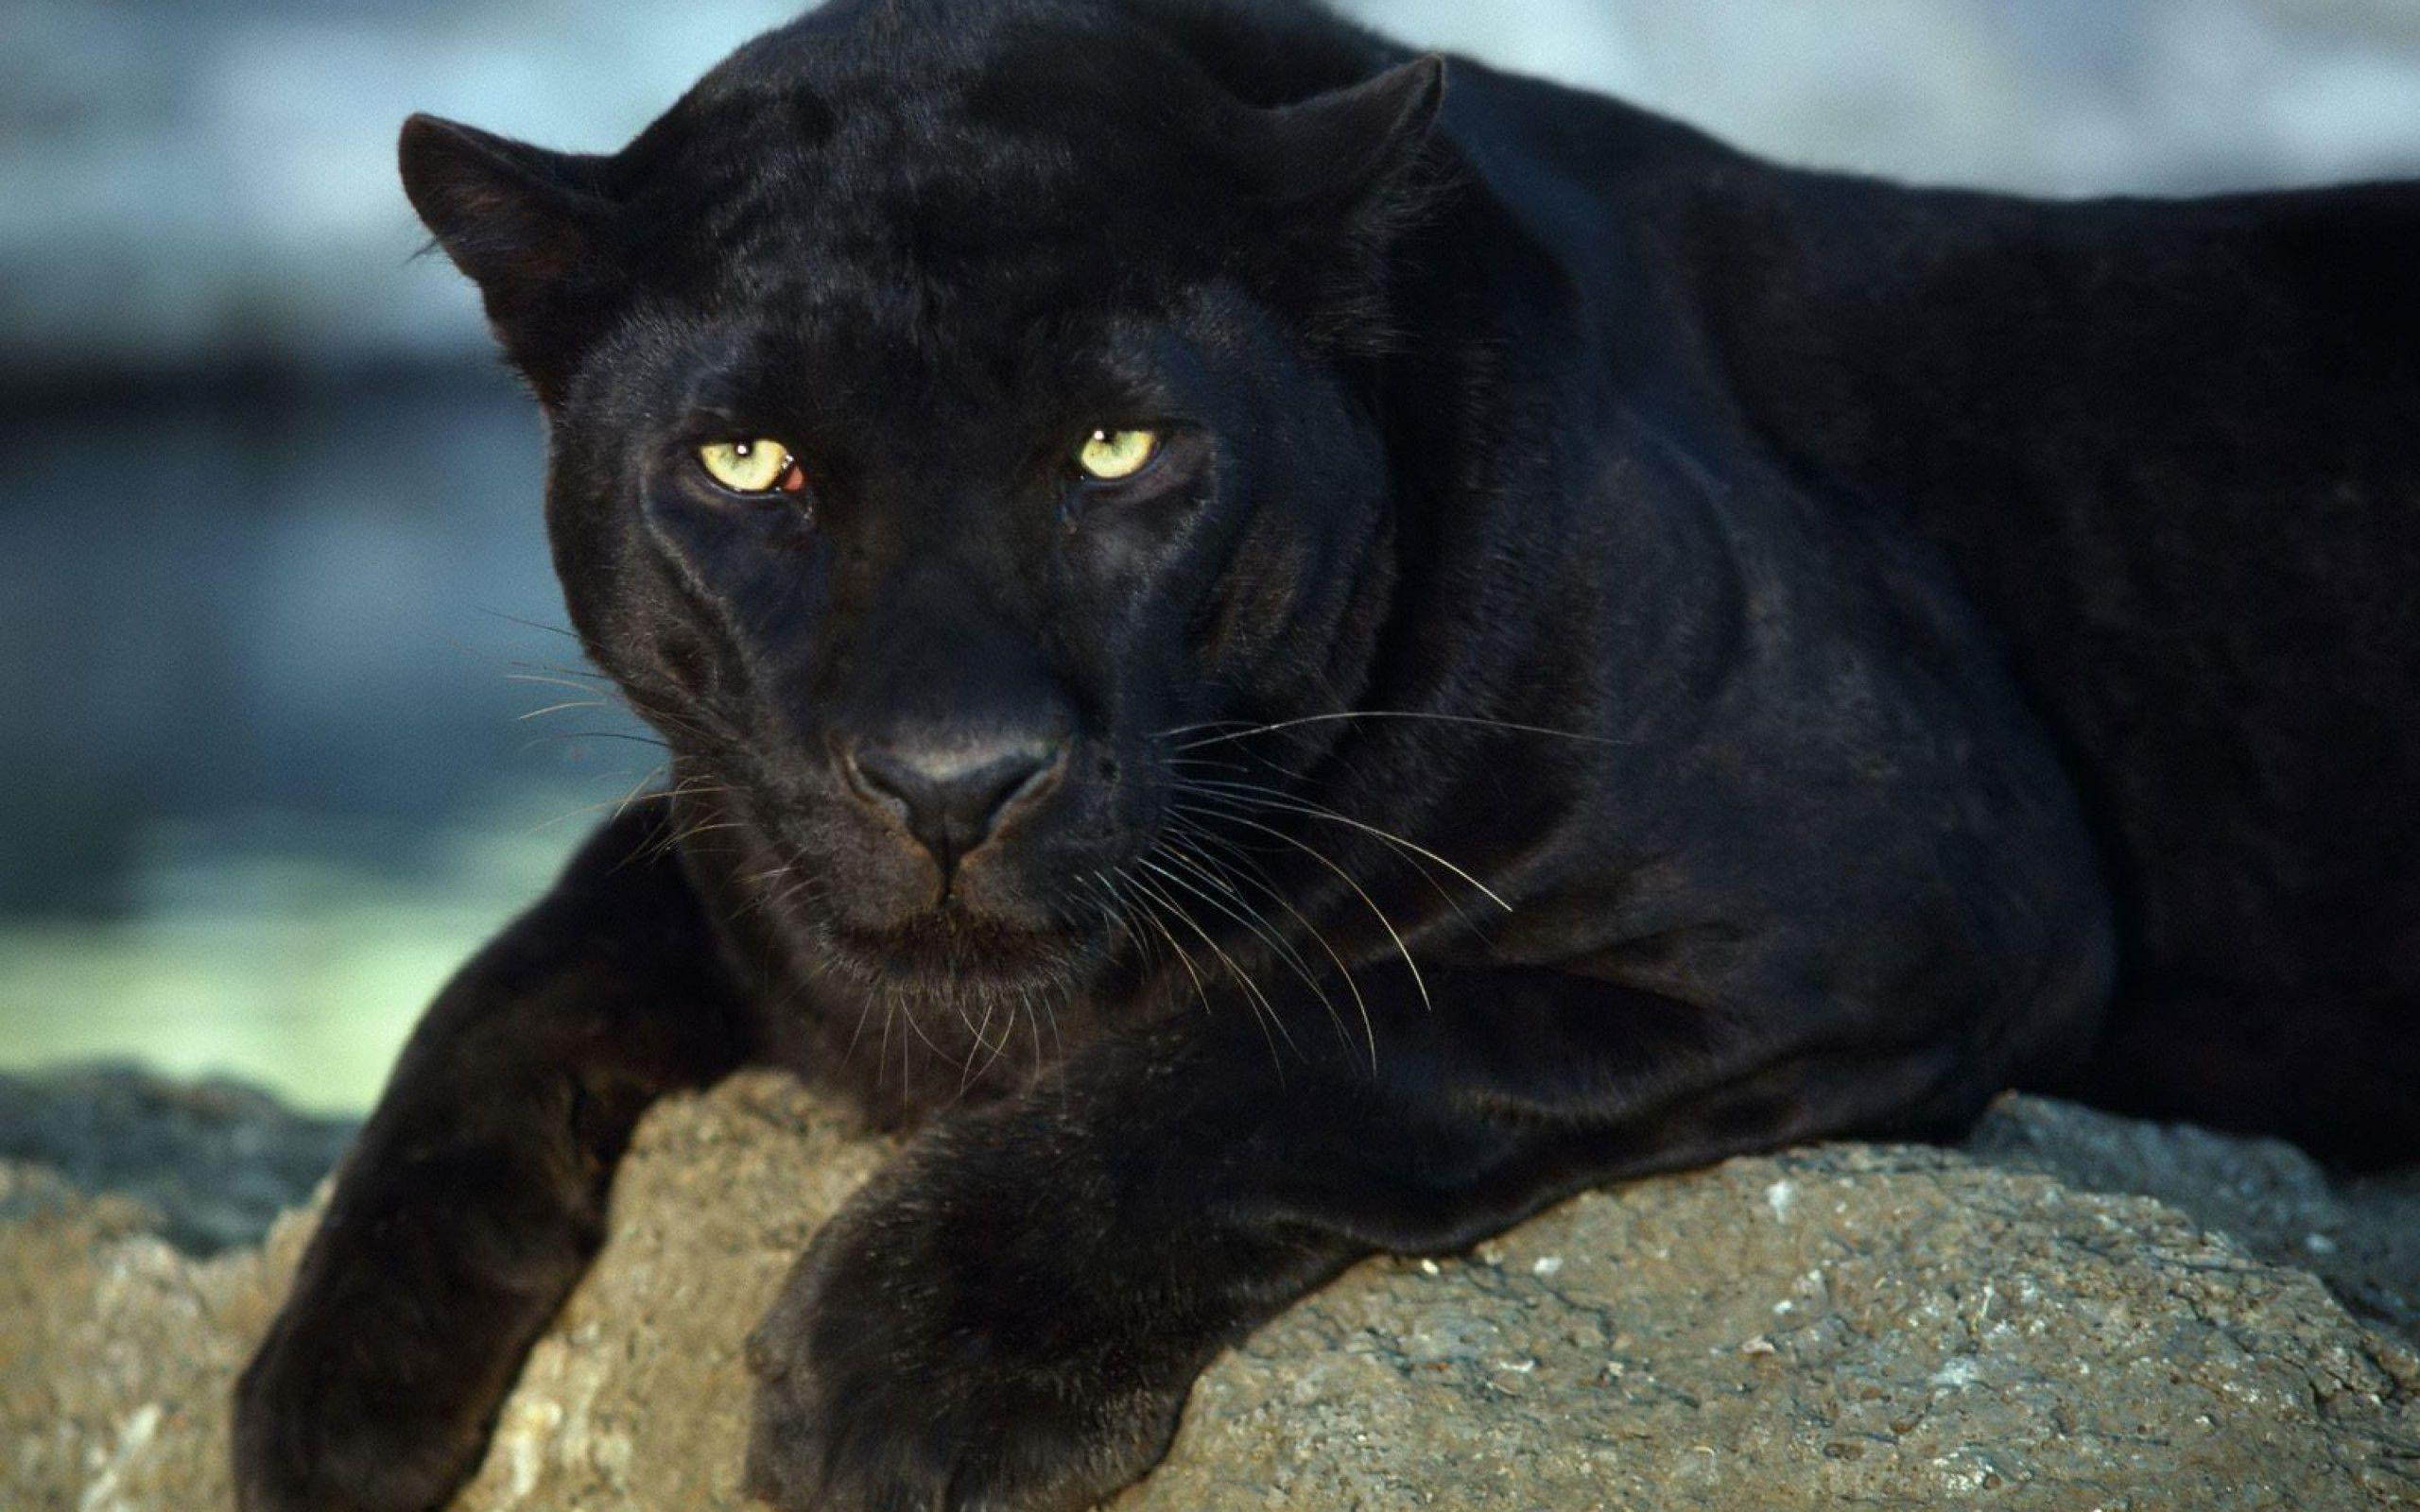panther: (274, 24, 1575, 1115)
